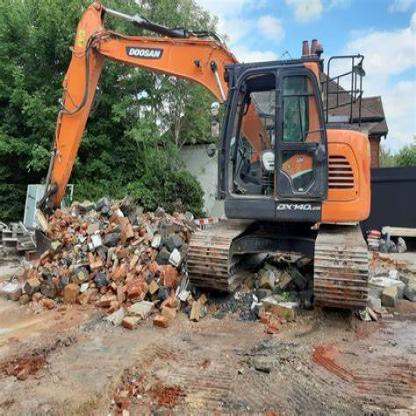excavator: (26, 5, 392, 320)
